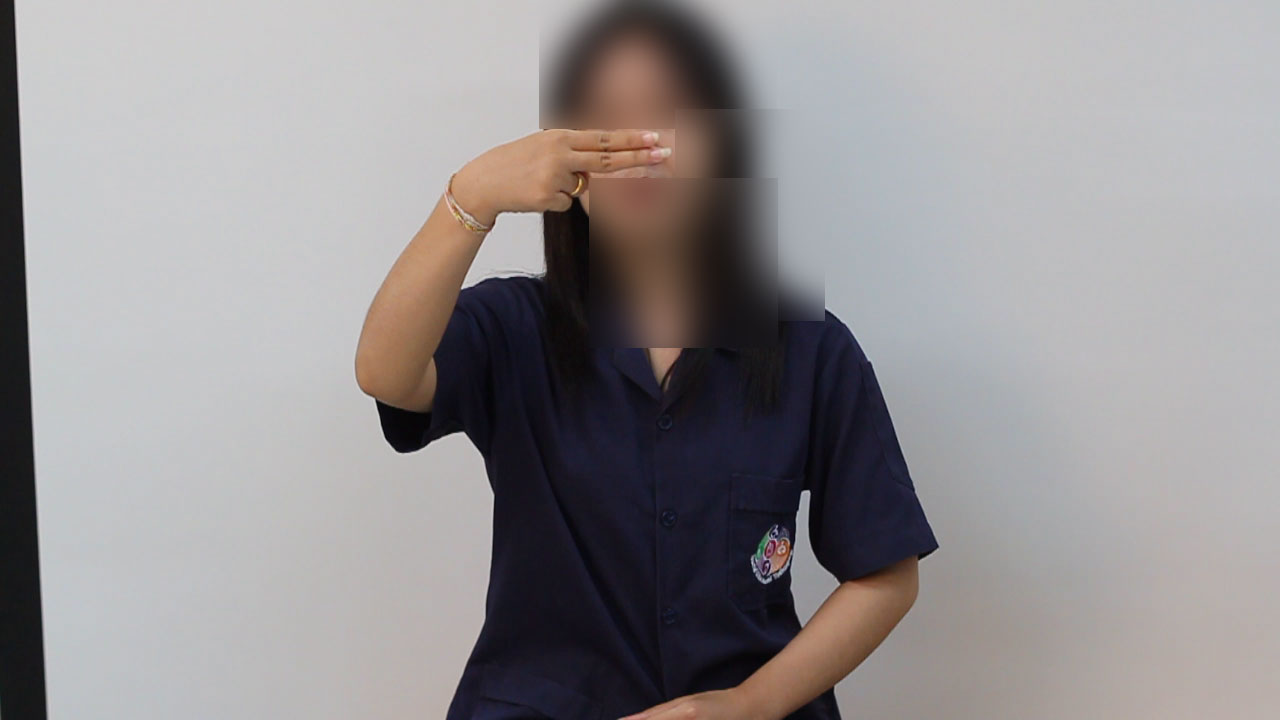hor: (460, 126, 679, 226)
